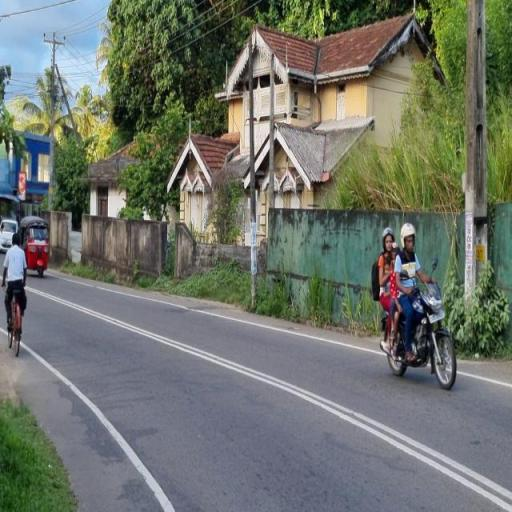double_white_line: (150, 262, 508, 512), (22, 342, 176, 510)
